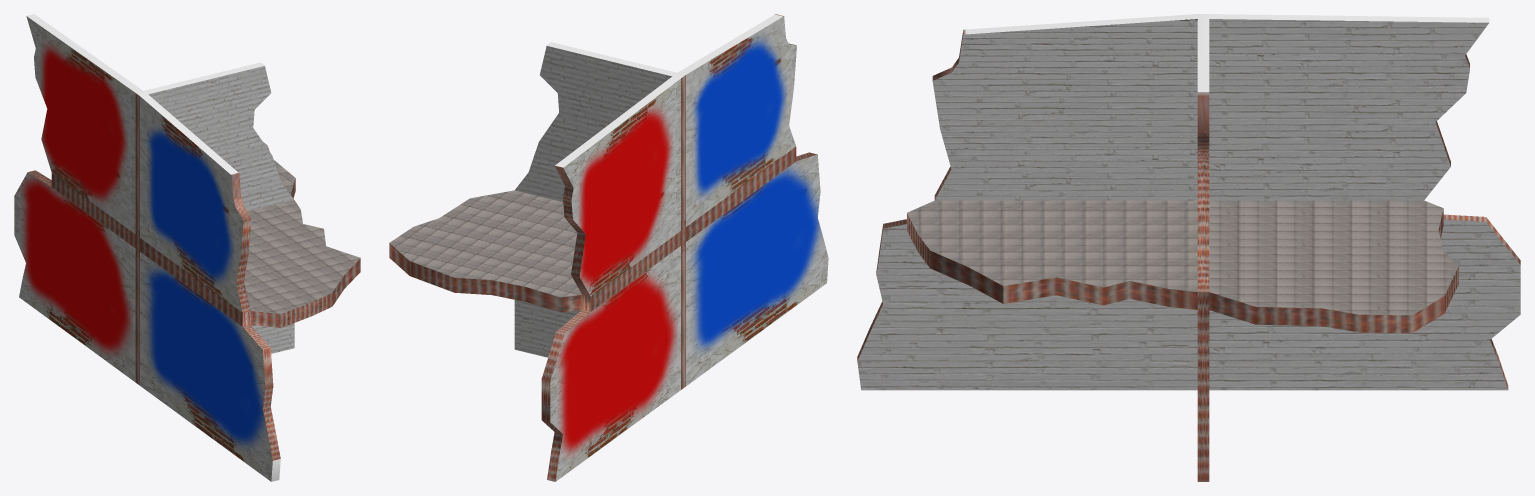
The model's file is DestroyedBuilding1.fbx.
3 views of the same model, side by side, from view 1: azimuth 30°, elevation 25°; view 2: azimuth 150°, elevation 25°; view 3: azimuth 270°, elevation 25° (orthographic). The views are drawn at different scales.
Parts seen in each view (by area): view 1: pCube1; view 2: pCube1; view 3: pCube1.
Boxes of the visible parts, x1=… form: pCube1: x1=14, y1=14, x2=360, y2=481; pCube1: x1=389, y1=14, x2=828, y2=481; pCube1: x1=857, y1=14, x2=1520, y2=481.
Size of the model in its own units: 24.09 by 34.77 by 56.28.
